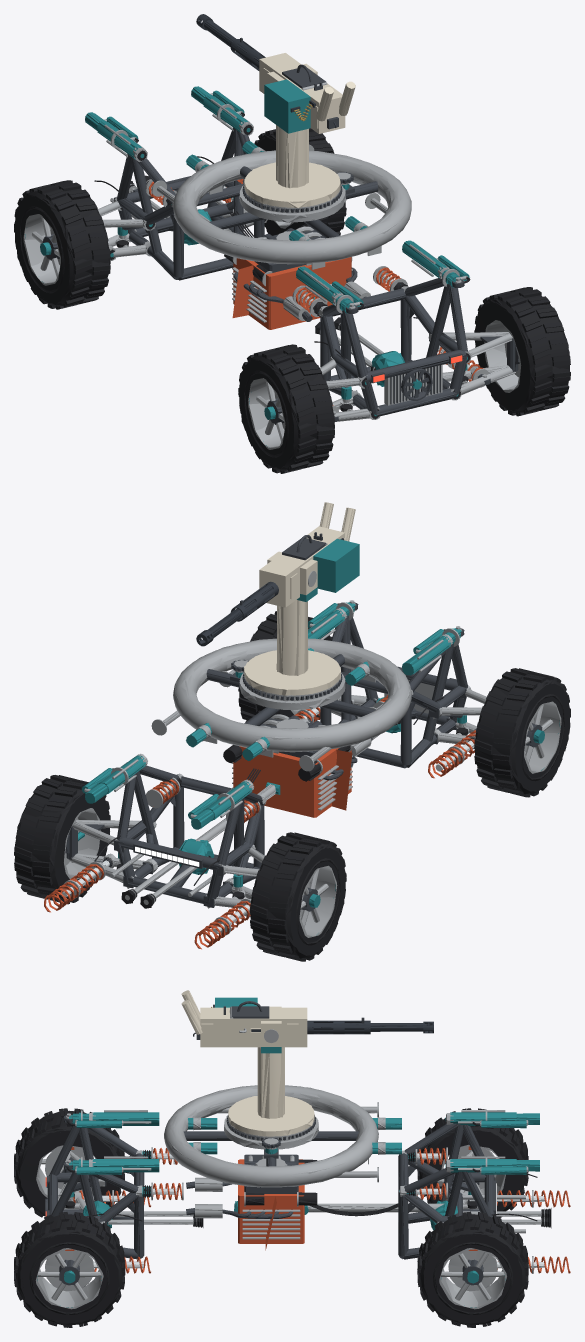
The model's file is vehiculo_tubular.glb.
The picture shows the model from 3 angles, top to bottom: view 1: azimuth 30°, elevation 25°; view 2: azimuth 150°, elevation 25°; view 3: azimuth 270°, elevation 25°; orthographic projection. The views are drawn at different scales.
Visible parts, largest first — view 1: L0_VehiculoTubular_malla, L0_plataforma_aro_malla, L1_VehiculoTubular_malla, L0_rueda_di_malla, L0_rueda_ti_malla, L0_rueda_td_malla, L0_arma_malla, L1_plataforma_aro_malla, L2_VehiculoTubular_malla, L1_motor_malla, L1_rueda_ti_malla, L1_rueda_di_malla (+18 smaller); view 2: L0_VehiculoTubular_malla, L0_plataforma_aro_malla, L1_VehiculoTubular_malla, L0_rueda_di_malla, L0_rueda_ti_malla, L0_rueda_dd_malla, L1_plataforma_aro_malla, L0_torreta_malla, L1_motor_malla, L1_arma_malla, L0_arma_malla, L2_VehiculoTubular_malla (+20 smaller); view 3: L0_VehiculoTubular_malla, L0_plataforma_aro_malla, L0_rueda_td_malla, L0_rueda_dd_malla, L0_arma_malla, L1_VehiculoTubular_malla, L1_rueda_dd_malla, L1_rueda_td_malla, L1_plataforma_aro_malla, L1_motor_malla, L2_plataforma_aro_malla, L0_rueda_ti_malla (+23 smaller).
Boxes of the visible parts, x1,y1,x2,y2 form: L0_VehiculoTubular_malla: [114, 127, 471, 419]; L0_plataforma_aro_malla: [173, 150, 411, 269]; L1_VehiculoTubular_malla: [115, 128, 470, 419]; L0_rueda_di_malla: [14, 180, 110, 309]; L0_rueda_ti_malla: [238, 344, 334, 473]; L0_rueda_td_malla: [474, 287, 570, 416]; L0_arma_malla: [196, 14, 355, 133]; L1_plataforma_aro_malla: [173, 151, 411, 264]; L2_VehiculoTubular_malla: [123, 130, 467, 415]; L1_motor_malla: [233, 226, 370, 329]; L1_rueda_ti_malla: [239, 354, 334, 470]; L1_rueda_di_malla: [15, 190, 110, 306]; L0_VehiculoTubular_malla: [113, 603, 470, 907]; L0_plataforma_aro_malla: [173, 638, 411, 757]; L1_VehiculoTubular_malla: [117, 602, 471, 908]; L0_rueda_di_malla: [250, 832, 346, 961]; L0_rueda_ti_malla: [474, 668, 570, 797]; L0_rueda_dd_malla: [14, 775, 110, 904]; L1_plataforma_aro_malla: [173, 639, 411, 751]; L0_torreta_malla: [243, 551, 341, 701]; L1_motor_malla: [233, 714, 370, 817]; L1_arma_malla: [198, 502, 359, 644]; L0_arma_malla: [196, 502, 355, 646]; L2_VehiculoTubular_malla: [117, 616, 466, 902]; L0_VehiculoTubular_malla: [45, 1114, 496, 1259]; L0_plataforma_aro_malla: [164, 1085, 378, 1187]; L0_rueda_td_malla: [14, 1212, 125, 1327]; L0_rueda_dd_malla: [417, 1211, 528, 1327]; L0_arma_malla: [182, 990, 433, 1047]; L1_VehiculoTubular_malla: [45, 1116, 496, 1259]; L1_rueda_dd_malla: [420, 1215, 526, 1325]; L1_rueda_td_malla: [16, 1216, 122, 1325]; L1_plataforma_aro_malla: [164, 1085, 378, 1187]; L1_motor_malla: [186, 1154, 304, 1243]; L2_plataforma_aro_malla: [164, 1085, 378, 1186]; L0_rueda_ti_malla: [14, 1108, 124, 1217].
Size of the model in its own units: 2.07 by 2.16 by 4.
